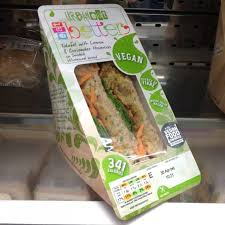sandwich: (27, 1, 219, 225)
